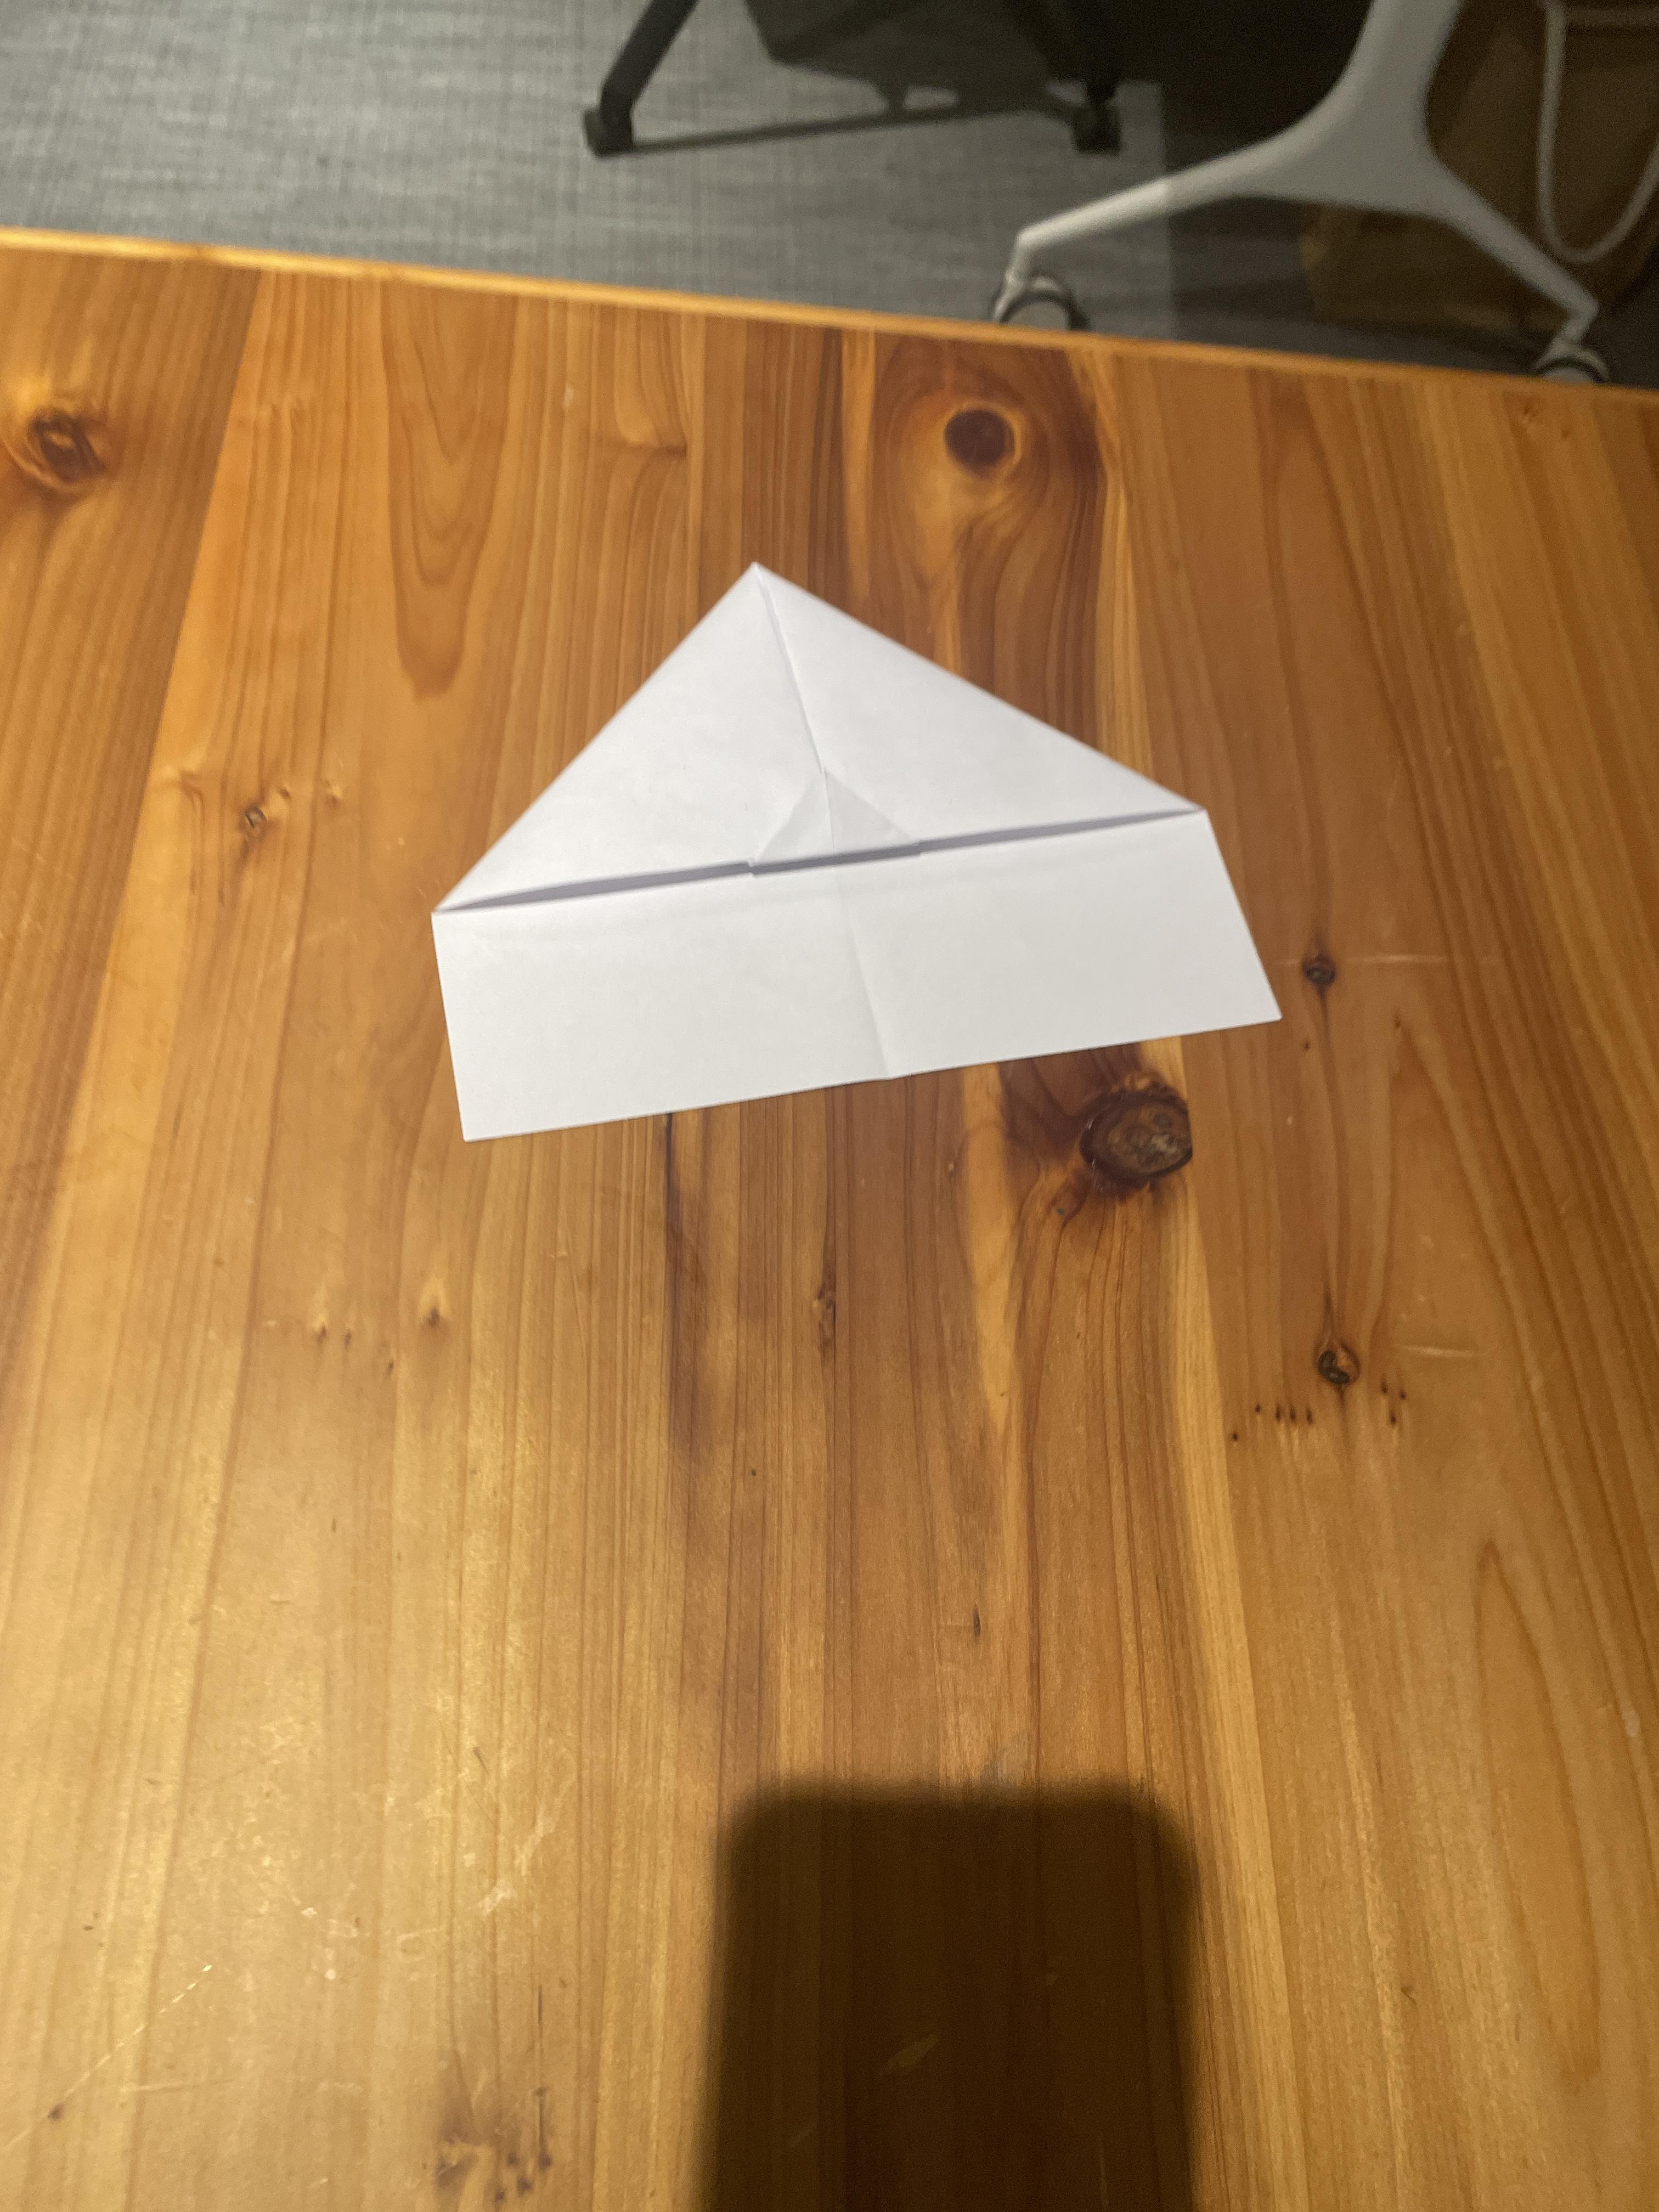shape_2: (296, 413, 1394, 1249)
